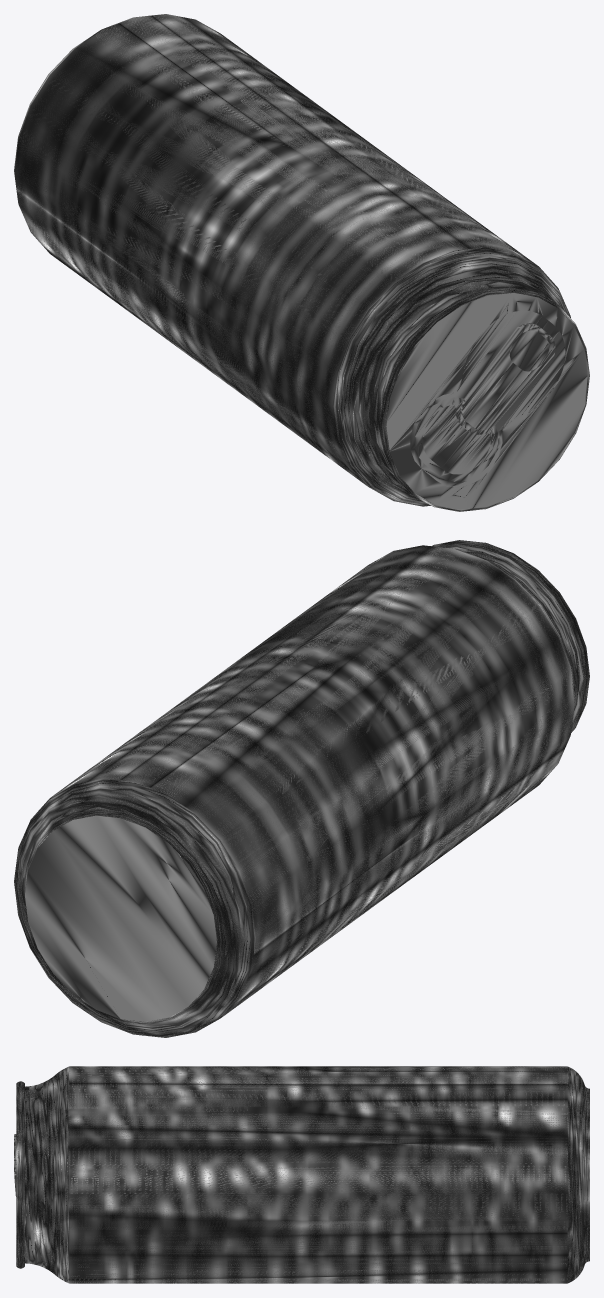
File: model_align.obj
3 views of the same model, one above another, from view 1: azimuth 30°, elevation 25°; view 2: azimuth 150°, elevation 25°; view 3: azimuth 270°, elevation 25° (orthographic). The views are drawn at different scales.
Size of the model in its own units: 0.0442 by 0.0442 by 0.1168.
